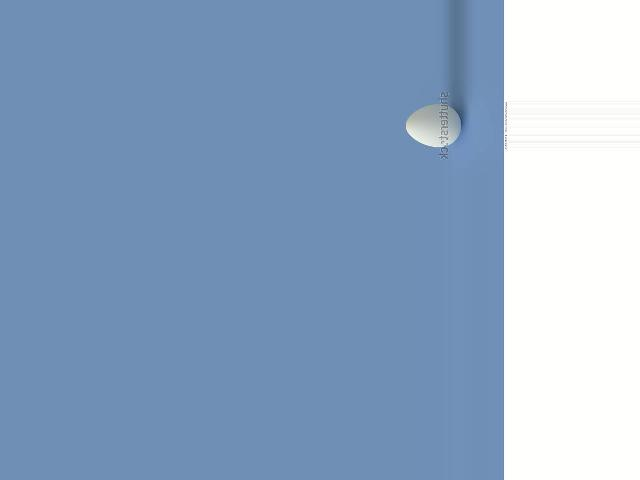egg: (405, 104, 461, 147)
